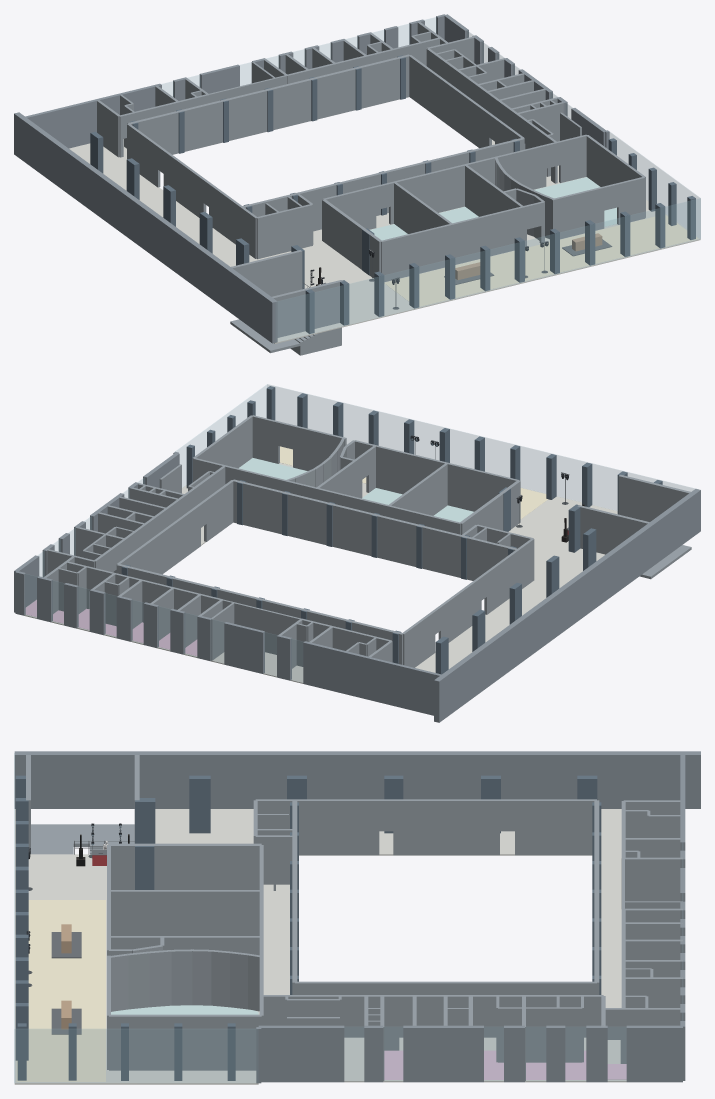
The model's file is floor03.glb.
3 views of the same model, one above another, from view 1: azimuth 30°, elevation 25°; view 2: azimuth 150°, elevation 25°; view 3: azimuth 270°, elevation 25° (orthographic). The views are drawn at different scales.
Visible parts, largest first — view 1: Arch_F3_verified_outer_south_end__web, Arch_F3_verified_outer_west_end__web, Arch_F3_verified_hall_north_end__web, Arch_Room_F3_verified_Networking_bar__web, Arch_F3_verified_cinemas_south_end__web, Arch_F3_verified_hall_east_00__web, Arch_F3_verified_cinemas_north_end__web, Arch_F3_verified_hall_south_end__web, Arch_F3_verified_outer_north_00__web, Arch_F3_verified_main_stair_south_end__web, Arch_F3_verified_lift_south_end__web, Arch_F3_verified_cinema2_west_end__web (+26 smaller); view 2: Arch_F3_verified_outer_west_end__web, Arch_F3_verified_hall_south_end__web, Arch_F3_verified_outer_south_end__web, Arch_F3_verified_outer_north_00__web, Arch_F3_verified_cinemas_south_end__web, Arch_F3_verified_hall_north_end__web, Arch_F3_verified_hall_east_00__web, Arch_F3_verified_main_stair_south_end__web, Arch_Floor_F3_verified_02__web, Arch_F3_verified_main_stair_north_end__web, Arch_F3_verified_outer_north_02__web, Arch_Floor_F3_verified_04__web (+46 smaller); view 3: Arch_F3_verified_outer_west_end__web, Arch_F3_verified_outer_east_south_end__web, Arch_Room_F3_verified_Networking_bar__web, Arch_F3_verified_cinema4_east_end__web, Arch_F3_verified_cinema2_3_shared_end__web, Arch_F3_verified_cinema2_west_end__web, Arch_F3_verified_hall_west_01__web, Arch_F3_verified_outer_east_north_end__web, Arch_F3_verified_outer_east_north_04__web, Arch_Floor_F3_verified_04__web, Arch_F3_verified_hall_west_end__web, Arch_Floor_F3_verified_00__web (+64 smaller).
Boxes of the visible parts, x1,y1,x2,y2 form: Arch_F3_verified_outer_south_end__web: (275, 198, 700, 342); Arch_F3_verified_outer_west_end__web: (14, 112, 277, 343); Arch_F3_verified_hall_north_end__web: (127, 54, 410, 154); Arch_Room_F3_verified_Networking_bar__web: (384, 215, 697, 306); Arch_F3_verified_cinemas_south_end__web: (381, 206, 523, 282); Arch_F3_verified_hall_east_00__web: (409, 55, 491, 148); Arch_F3_verified_cinemas_north_end__web: (414, 147, 536, 212); Arch_F3_verified_hall_south_end__web: (241, 138, 524, 231); Arch_F3_verified_outer_north_00__web: (25, 83, 161, 148); Arch_F3_verified_main_stair_south_end__web: (272, 280, 342, 337); Arch_F3_verified_lift_south_end__web: (256, 204, 312, 259); Arch_F3_verified_cinema2_west_end__web: (322, 199, 382, 278); Arch_F3_verified_outer_west_end__web: (434, 489, 700, 722); Arch_F3_verified_hall_south_end__web: (232, 479, 518, 580); Arch_F3_verified_outer_south_end__web: (267, 384, 694, 510); Arch_F3_verified_outer_north_00__web: (303, 641, 441, 715); Arch_F3_verified_cinemas_south_end__web: (376, 445, 519, 511); Arch_F3_verified_hall_north_end__web: (117, 564, 403, 664); Arch_F3_verified_hall_east_00__web: (116, 504, 200, 574); Arch_F3_verified_main_stair_south_end__web: (618, 474, 690, 521); Arch_Floor_F3_verified_02__web: (415, 592, 545, 672); Arch_F3_verified_main_stair_north_end__web: (577, 505, 649, 554); Arch_F3_verified_outer_north_02__web: (224, 622, 264, 673); Arch_Floor_F3_verified_04__web: (182, 485, 604, 587); Arch_F3_verified_outer_west_end__web: (14, 751, 700, 808); Arch_F3_verified_outer_east_south_end__web: (15, 1029, 257, 1082); Arch_Room_F3_verified_Networking_bar__web: (16, 900, 105, 1081); Arch_F3_verified_cinema4_east_end__web: (109, 1014, 261, 1070); Arch_F3_verified_cinema2_3_shared_end__web: (109, 890, 261, 935); Arch_F3_verified_cinema2_west_end__web: (109, 843, 261, 889); Arch_F3_verified_hall_west_01__web: (393, 799, 499, 855); Arch_F3_verified_outer_east_north_end__web: (258, 1025, 344, 1082); Arch_F3_verified_outer_east_north_04__web: (403, 1025, 483, 1082); Arch_Floor_F3_verified_04__web: (137, 809, 258, 1084); Arch_F3_verified_hall_west_end__web: (295, 799, 379, 855); Arch_Floor_F3_verified_00__web: (601, 809, 626, 1082).
Bounding box in the file's own units: 54.88 × 8.12 × 57.37.
